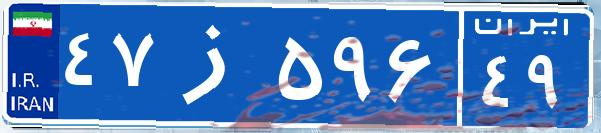4: (57, 26, 110, 107), (475, 38, 525, 113)
5: (273, 28, 330, 110)
6: (385, 28, 445, 110)
7: (110, 28, 158, 105)
9: (330, 28, 385, 110), (525, 38, 570, 115)
ز: (158, 15, 273, 115)
